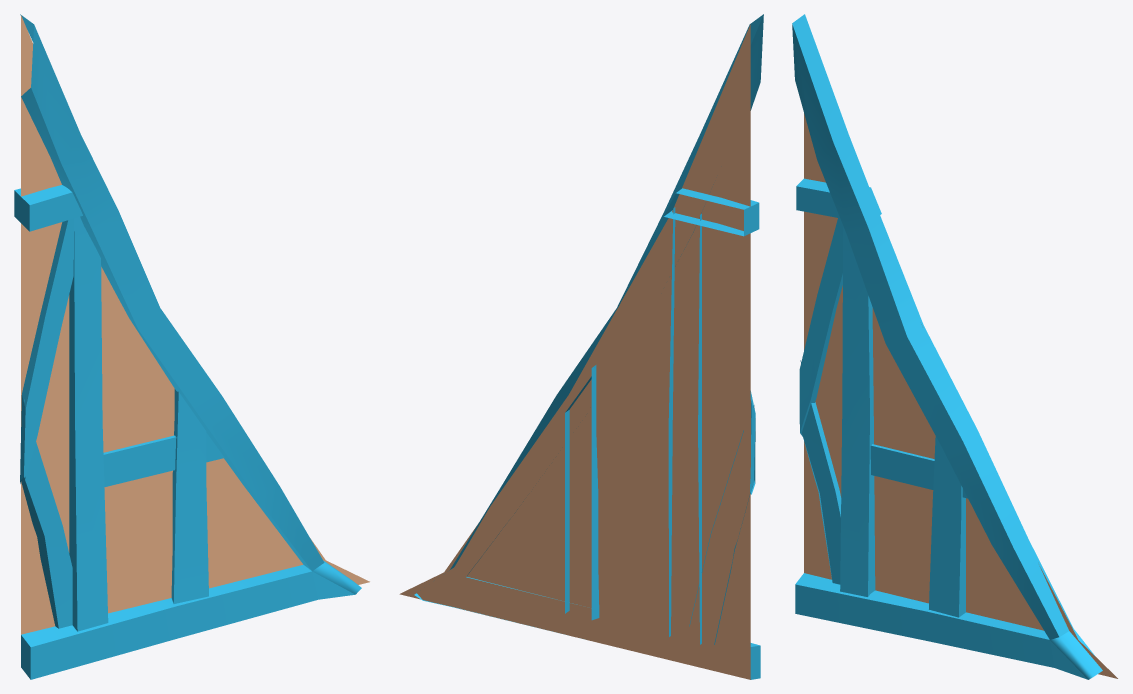
The model's file is Roof_Wall_01_half_02.fbx.
3 renders of one model, left to right at view 1: azimuth 30°, elevation 25°; view 2: azimuth 150°, elevation 25°; view 3: azimuth 330°, elevation 25°, orthographic. The views are drawn at different scales.
Visible parts, largest first — view 1: Roof_Wall_01_half_02; view 2: Roof_Wall_01_half_02; view 3: Roof_Wall_01_half_02.
Boxes of the visible parts, left/top/right/bottom form: Roof_Wall_01_half_02: left=14, top=14, right=369, bottom=679; Roof_Wall_01_half_02: left=399, top=14, right=763, bottom=679; Roof_Wall_01_half_02: left=792, top=14, right=1117, bottom=679.
Bounding box in the file's own units: 379 × 681 × 37.94.
